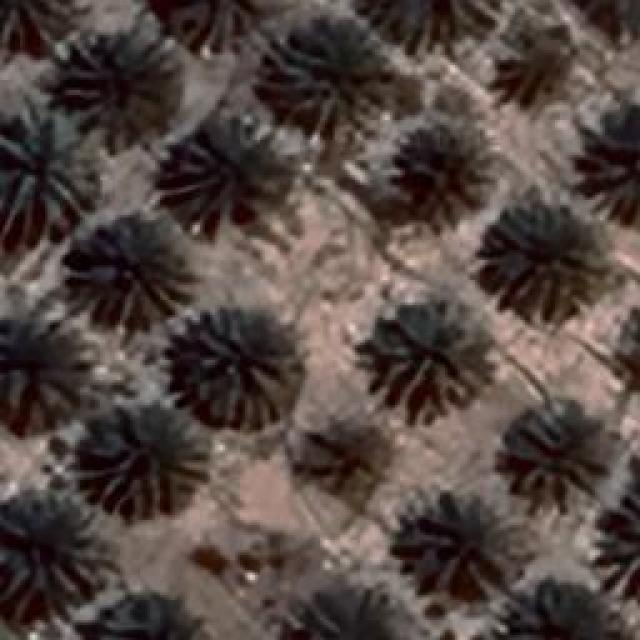PalmTree: (66, 19, 607, 615), (160, 110, 302, 250), (80, 400, 215, 520), (64, 210, 198, 330), (262, 18, 400, 132), (362, 302, 490, 422), (480, 200, 608, 318), (60, 30, 185, 145), (180, 308, 298, 428), (380, 120, 498, 230), (402, 492, 530, 592), (0, 110, 95, 232), (500, 400, 602, 510), (0, 500, 110, 595), (0, 327, 85, 425), (344, 0, 502, 51), (504, 24, 598, 104), (304, 431, 392, 511), (582, 108, 638, 225), (87, 590, 200, 640), (510, 587, 625, 635), (590, 488, 638, 600), (0, 0, 87, 58), (148, 0, 251, 48), (613, 302, 640, 398), (621, 298, 640, 392)
